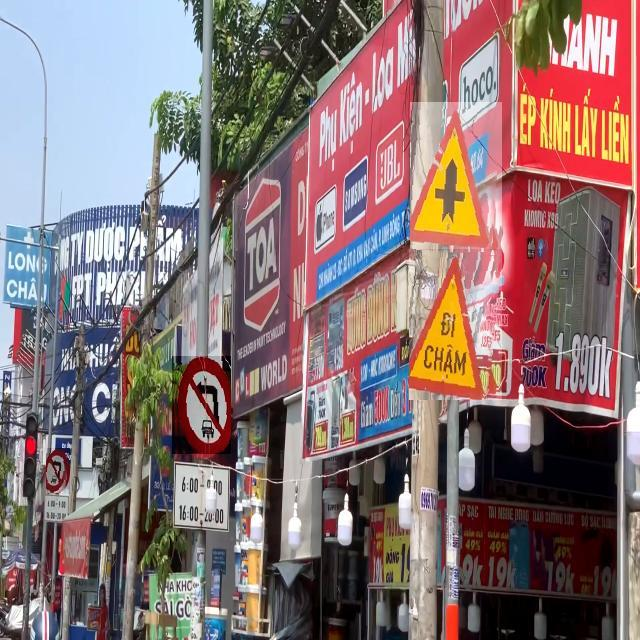P-103c: (172, 356, 231, 454), (46, 448, 70, 494)
W-207a: (410, 102, 502, 254)
W-245a: (409, 249, 502, 400)
